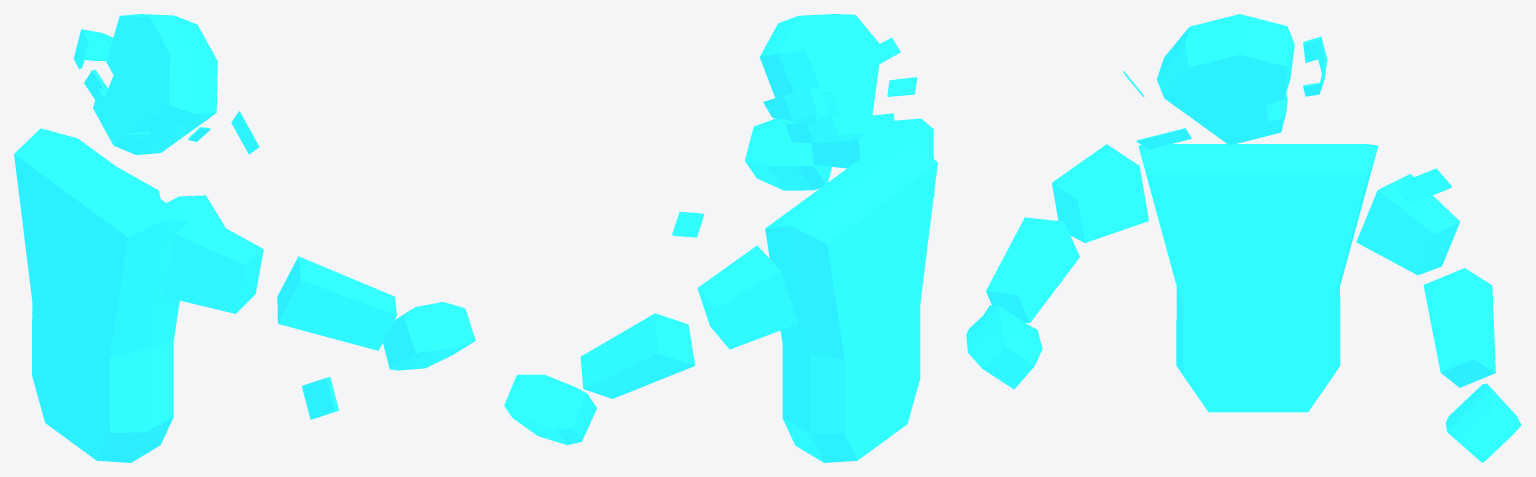
The model's file is BigAhhThing.fbx.
3 renders of one model, left to right at view 1: azimuth 30°, elevation 25°; view 2: azimuth 150°, elevation 25°; view 3: azimuth 270°, elevation 25°, orthographic. The views are drawn at different scales.
Parts seen in each view (by area): view 1: Cube; view 2: Cube; view 3: Cube.
Boxes of the visible parts, left/top/right/bottom form: Cube: left=14, top=14, right=475, bottom=462; Cube: left=504, top=14, right=937, bottom=462; Cube: left=966, top=14, right=1521, bottom=462.
Size of the model in its own units: 388 by 595 by 733.
